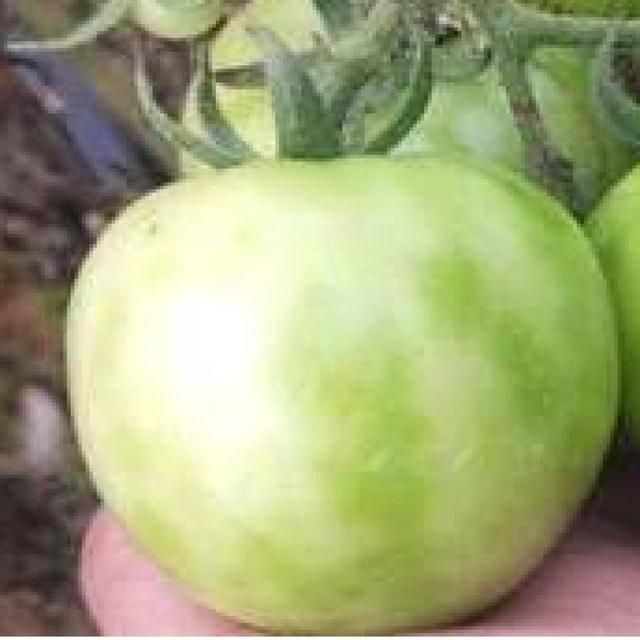Spotted wilt Virus Fruit: (43, 58, 91, 249)
